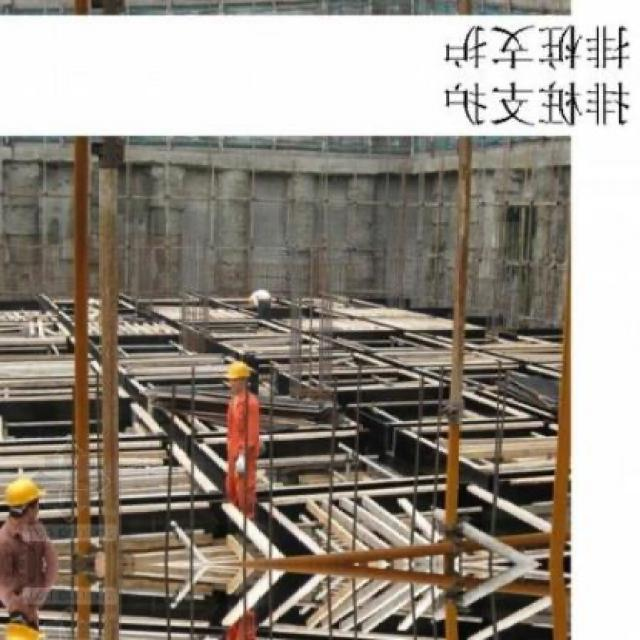helmet: (5, 473, 43, 523), (5, 608, 44, 638), (223, 360, 249, 400)
